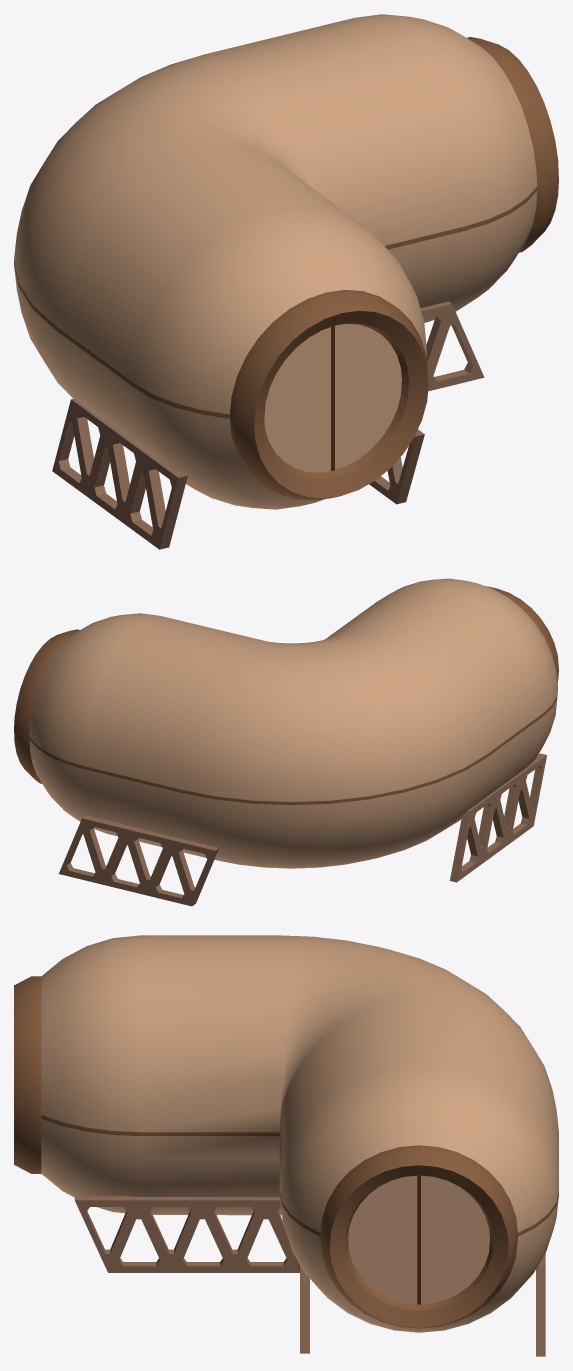
The model's file is n_building_l.glb.
3 renders of one model, top to bottom at view 1: azimuth 30°, elevation 25°; view 2: azimuth 150°, elevation 25°; view 3: azimuth 270°, elevation 25°, orthographic. The views are drawn at different scales.
Visible parts, largest first — view 1: Building_L; view 2: Building_L; view 3: Building_L.
Part boxes in pixels (x1,y1,x2,y2): Building_L: (14, 14, 558, 549); Building_L: (14, 578, 558, 906); Building_L: (14, 935, 558, 1356).
Bounding box in the file's own units: 7.8 × 4.31 × 7.79.
1 material, 1 textured.
